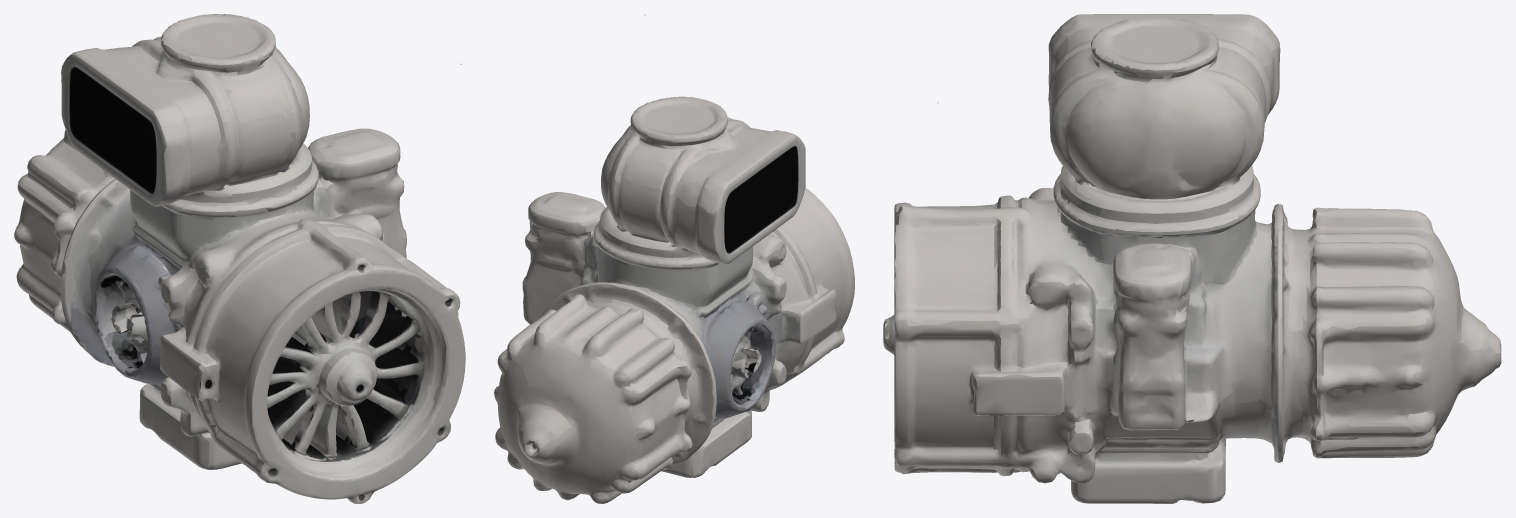
The model's file is turbocharger.glb.
The picture shows the model from 3 angles, left to right: view 1: azimuth 30°, elevation 25°; view 2: azimuth 150°, elevation 25°; view 3: azimuth 270°, elevation 25°; orthographic projection. The views are drawn at different scales.
Visible parts, largest first — view 1: textured_mesh.obj; view 2: textured_mesh.obj; view 3: textured_mesh.obj.
Part boxes in pixels (x1=…): textured_mesh.obj: x1=14, y1=14, x2=465, y2=503; textured_mesh.obj: x1=494, y1=14, x2=854, y2=503; textured_mesh.obj: x1=883, y1=14, x2=1501, y2=503.
Bounding box in the file's own units: 0.2258 × 0.3162 × 0.4.
Materials: 1 (1 with a texture image).
